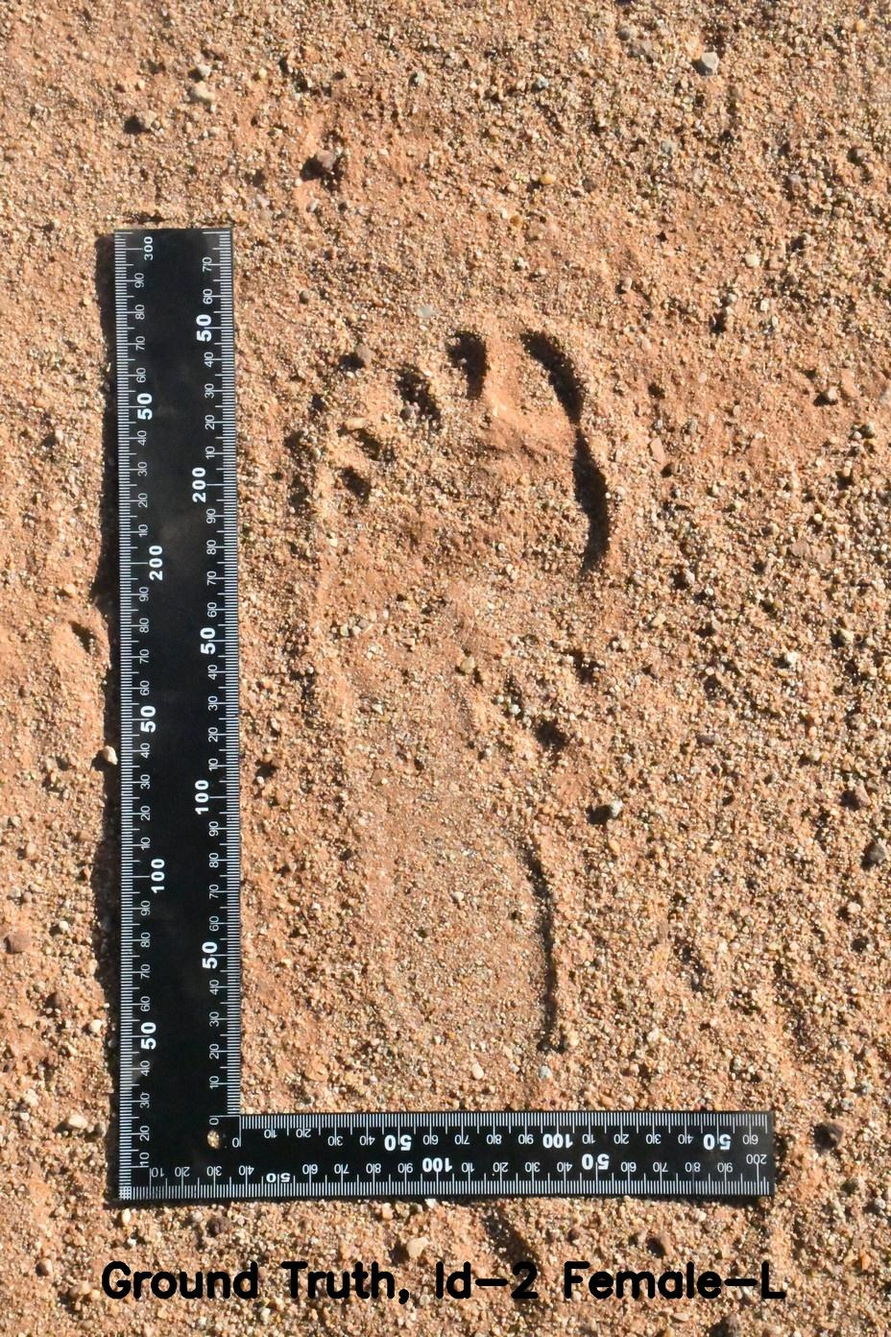human_foot_print: (269, 241, 654, 1088)
